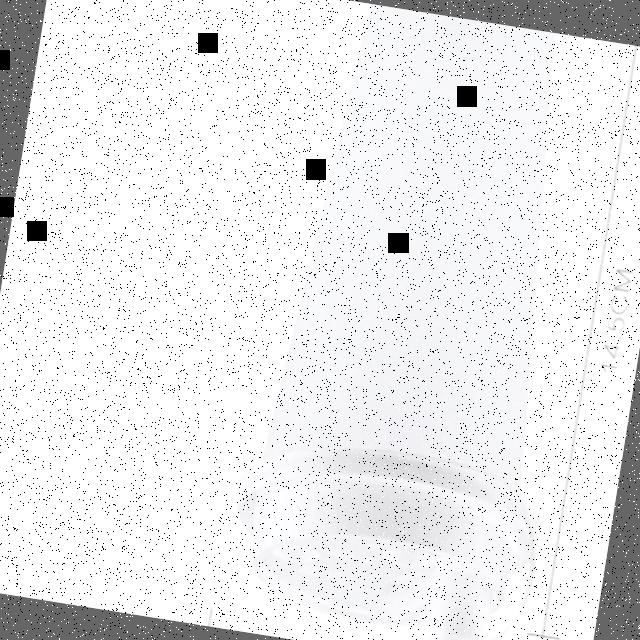plastic_box: (206, 0, 621, 640)
